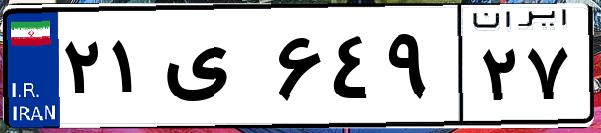1: (110, 28, 158, 98)
2: (57, 26, 110, 100), (475, 38, 525, 113)
4: (330, 28, 385, 110)
6: (270, 28, 330, 110)
7: (525, 38, 570, 115)
9: (385, 28, 445, 110)
ی: (158, 20, 270, 120)
